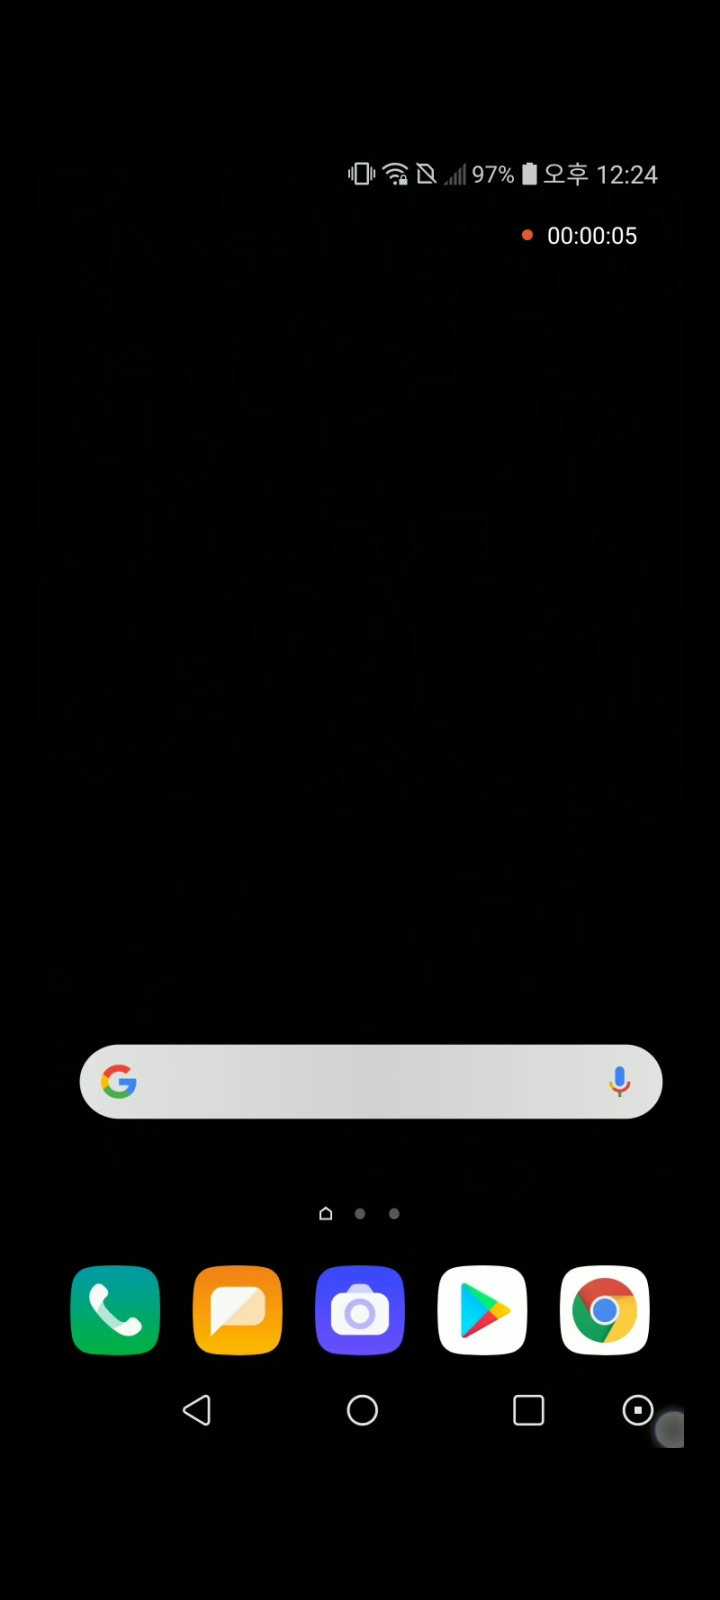Cursor: (646, 1403, 684, 1448)
